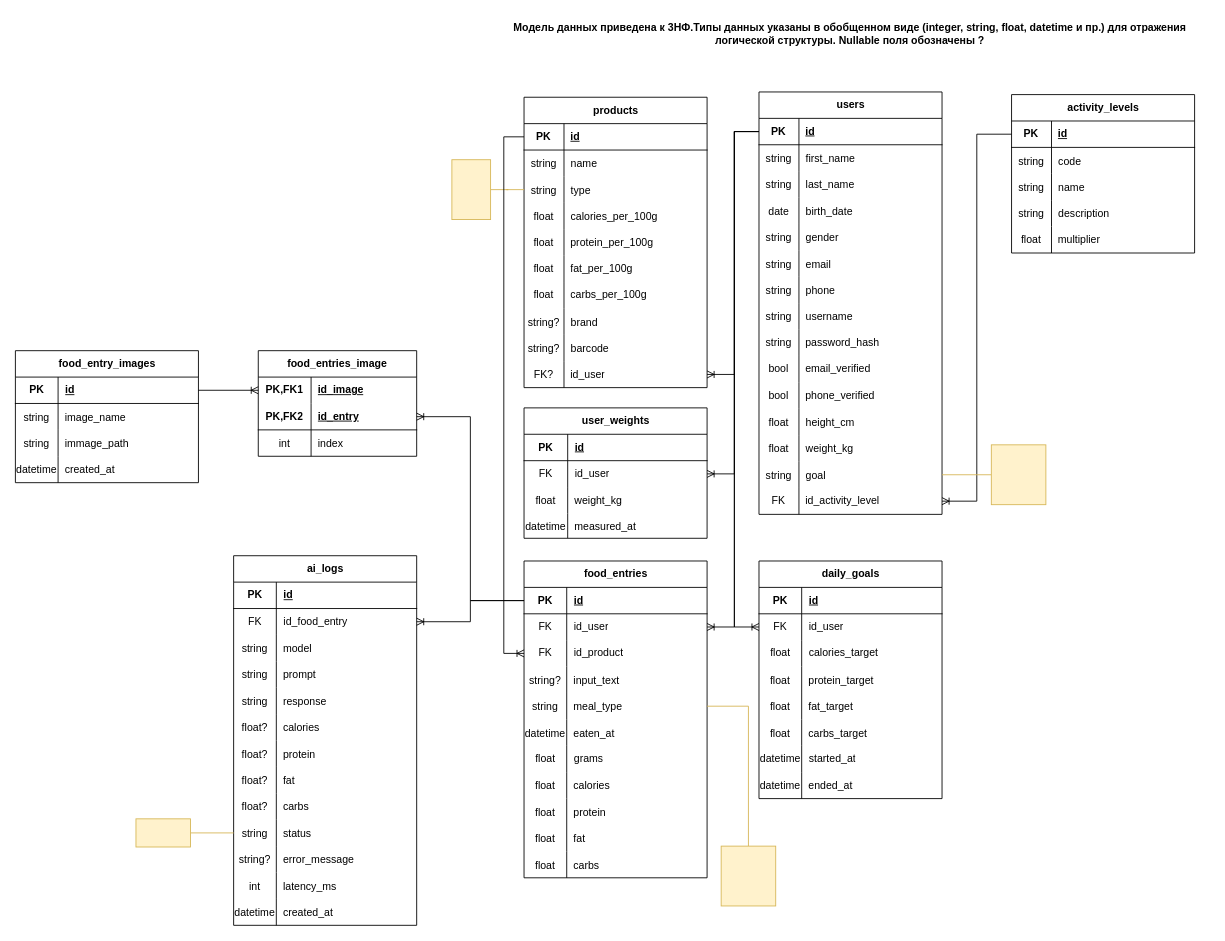
Image size: 1225x941. Some labels were removed from this diagram. Each missing label, with the centre of its shape:
basic, branded, user: pixel 471 189
breakfast, lunch, dinner, snack: pixel 748 875
lose_weight, maintain, gain_weight: pixel 1018 474
success, error: pixel 163 832
